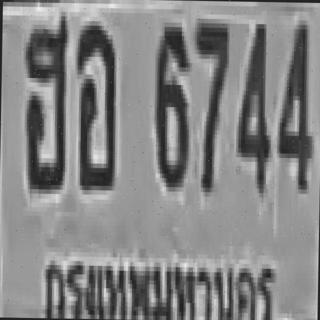A43: (73, 18, 115, 184)
A44: (21, 16, 68, 190)
N04: (276, 15, 312, 189), (235, 19, 271, 188)
N06: (153, 22, 188, 183)
N07: (192, 18, 228, 188)
P04: (32, 242, 277, 320)
